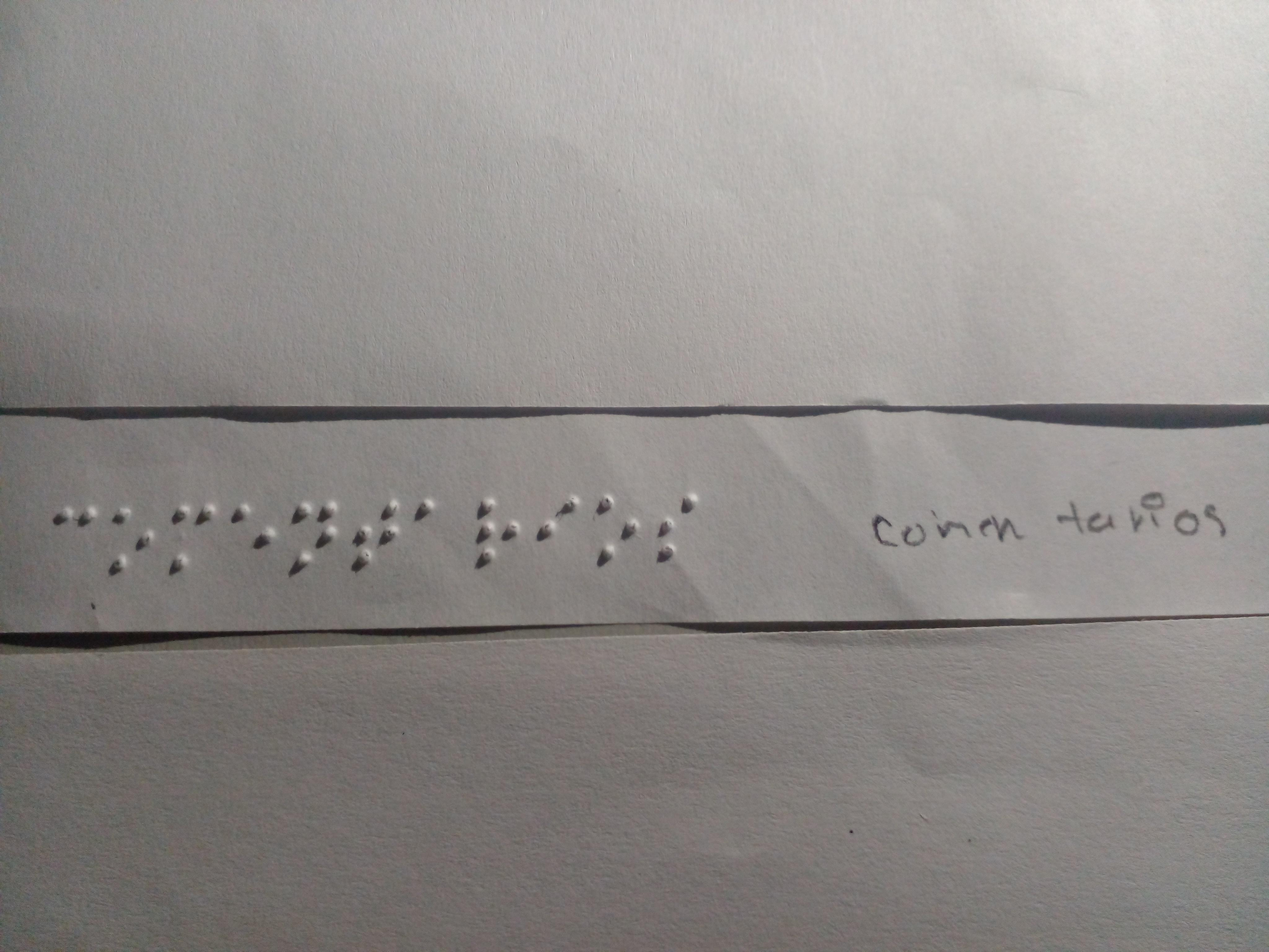a: (400, 491, 448, 535)
c: (48, 496, 110, 564)
e: (225, 494, 279, 566)
i: (536, 494, 589, 552)
m: (172, 493, 225, 581)
n: (279, 496, 344, 575)
o: (105, 497, 160, 575), (598, 490, 638, 566)
r: (468, 496, 524, 575)
s: (652, 485, 703, 562)
t: (350, 494, 404, 576)
